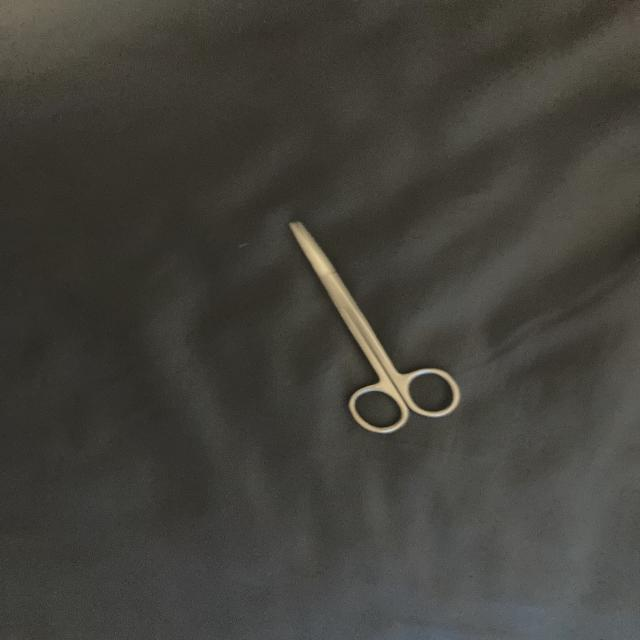Gunting: (267, 211, 475, 443)
